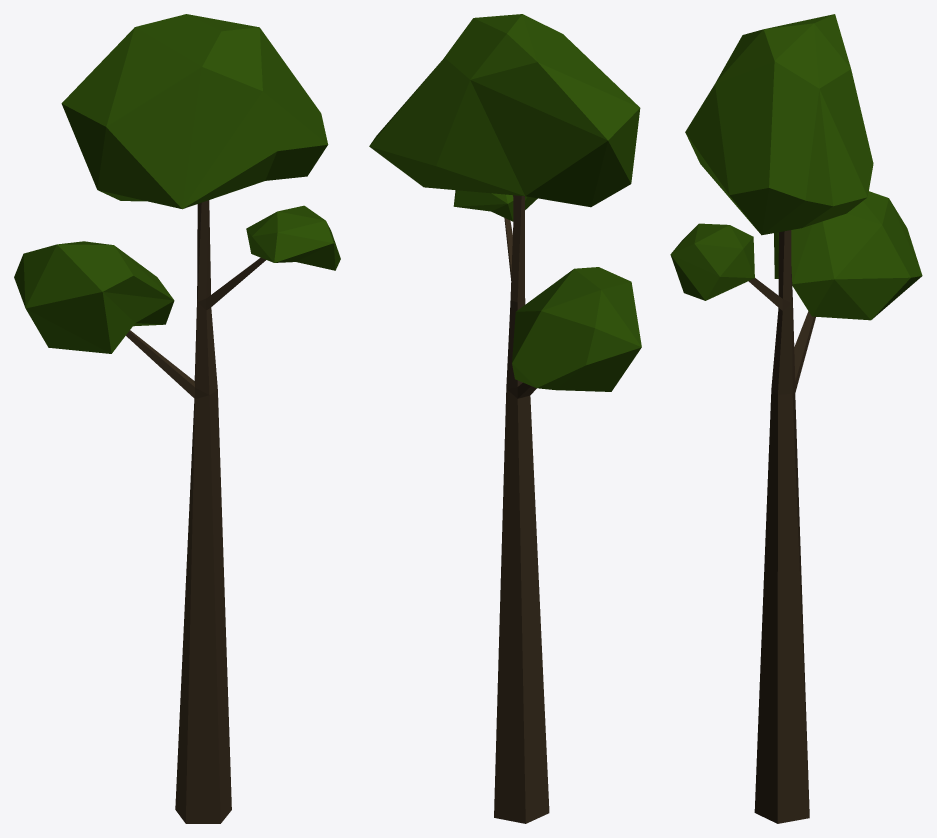
Rendered from Forest_C_Tree_03.fbx.
The picture shows the model from 3 angles, left to right: view 1: azimuth 30°, elevation 25°; view 2: azimuth 150°, elevation 25°; view 3: azimuth 270°, elevation 25°; orthographic projection.
Parts seen in each view (by area): view 1: Forest_C_Tree_03; view 2: Forest_C_Tree_03; view 3: Forest_C_Tree_03.
Boxes of the visible parts, x1,y1,x2,y2 form: Forest_C_Tree_03: (14,14,340,823); Forest_C_Tree_03: (369,14,641,823); Forest_C_Tree_03: (670,14,922,823).
Size of the model in its own units: 186 by 522 by 151.
